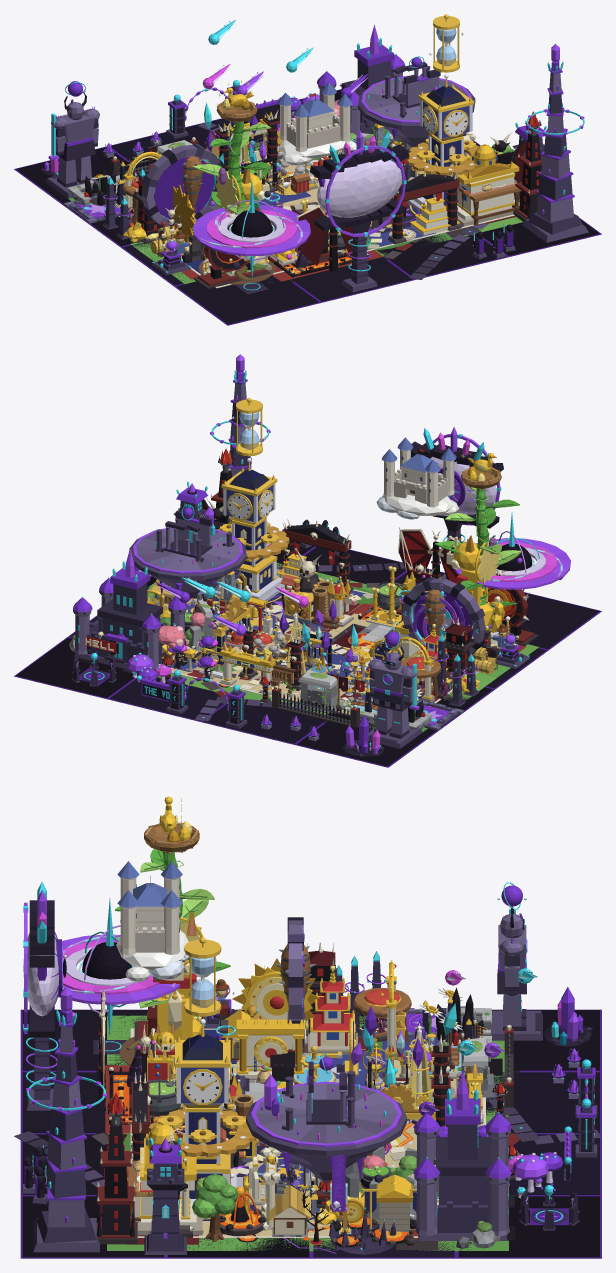
The model's file is Decor_26_30.fbx.
The picture shows the model from 3 angles, top to bottom: view 1: azimuth 30°, elevation 25°; view 2: azimuth 150°, elevation 25°; view 3: azimuth 270°, elevation 25°; orthographic projection. The views are drawn at different scales.
Parts seen in each view (by area): view 1: Ground_Body.Decor_VoidPortal_Ground, VoidEye_Body.Decor_VoidPortal_VoidEye, BlackHole_Body.Decor_VoidPortal_BlackHole, Spire_Body.Decor_VoidPortal_Spire, Island_Body.Decor_VoidPortal_Island, CloudCastle_Body.Decor_Beanstalk_CloudCastle, Sentinel_Body.Decor_VoidPortal_Sentinel, Hall_Body.Decor_DogeAltar_Hall, Citadel_Body.Decor_VoidPortal_Citadel, ClockFace_Body.Decor_ClockTower_ClockFace, GateArch_Body.Decor_HellGate_GateArch, PortalFrame_Body.Decor_VoidPortal_PortalFrame (+34 smaller); view 2: Ground_Body.Decor_VoidPortal_Ground, Citadel_Body.Decor_VoidPortal_Citadel, Island_Body.Decor_VoidPortal_Island, CloudCastle_Body.Decor_Beanstalk_CloudCastle, Sentinel_Body.Decor_VoidPortal_Sentinel, BlackHole_Body.Decor_VoidPortal_BlackHole, VoidEye_Body.Decor_VoidPortal_VoidEye, Ground_Body.Decor_DogeAltar_Ground, ClockFace_Body.Decor_ClockTower_ClockFace, Colossus_Body.Decor_DogeAltar_Colossus, Ground_Body.Decor_Beanstalk_Ground, PortalFrame_Body.Decor_VoidPortal_PortalFrame (+43 smaller); view 3: Ground_Body.Decor_VoidPortal_Ground, Island_Body.Decor_VoidPortal_Island, Citadel_Body.Decor_VoidPortal_Citadel, Spire_Body.Decor_VoidPortal_Spire, CloudCastle_Body.Decor_Beanstalk_CloudCastle, VoidEye_Body.Decor_VoidPortal_VoidEye, BlackHole_Body.Decor_VoidPortal_BlackHole, Sentinel_Body.Decor_VoidPortal_Sentinel, Ground_Body.Decor_Beanstalk_Ground, HellfireSpire_Body.Decor_HellGate_HellfireSpire, ClockFace_Body.Decor_ClockTower_ClockFace, Watchtower_Body.Decor_VoidPortal_Watchtower (+52 smaller).
Part boxes in pixels (x1,y1,x2,y2): Ground_Body.Decor_VoidPortal_Ground: [14, 89, 601, 325]; VoidEye_Body.Decor_VoidPortal_VoidEye: [310, 129, 409, 292]; BlackHole_Body.Decor_VoidPortal_BlackHole: [193, 178, 310, 294]; Spire_Body.Decor_VoidPortal_Spire: [522, 44, 588, 242]; Island_Body.Decor_VoidPortal_Island: [358, 56, 475, 147]; CloudCastle_Body.Decor_Beanstalk_CloudCastle: [277, 82, 356, 165]; Sentinel_Body.Decor_VoidPortal_Sentinel: [45, 81, 100, 198]; Hall_Body.Decor_DogeAltar_Hall: [450, 144, 519, 226]; Citadel_Body.Decor_VoidPortal_Citadel: [317, 24, 422, 141]; ClockFace_Body.Decor_ClockTower_ClockFace: [418, 74, 474, 141]; GateArch_Body.Decor_HellGate_GateArch: [388, 169, 461, 244]; PortalFrame_Body.Decor_VoidPortal_PortalFrame: [141, 143, 224, 226]; Ground_Body.Decor_VoidPortal_Ground: [14, 541, 601, 767]; Citadel_Body.Decor_VoidPortal_Citadel: [73, 548, 187, 669]; Island_Body.Decor_VoidPortal_Island: [129, 504, 246, 601]; CloudCastle_Body.Decor_Beanstalk_CloudCastle: [376, 437, 459, 519]; Sentinel_Body.Decor_VoidPortal_Sentinel: [368, 628, 422, 748]; BlackHole_Body.Decor_VoidPortal_BlackHole: [454, 512, 570, 623]; VoidEye_Body.Decor_VoidPortal_VoidEye: [411, 427, 503, 578]; Ground_Body.Decor_DogeAltar_Ground: [171, 582, 516, 714]; ClockFace_Body.Decor_ClockTower_ClockFace: [221, 458, 277, 524]; Colossus_Body.Decor_DogeAltar_Colossus: [445, 535, 503, 631]; Ground_Body.Decor_Beanstalk_Ground: [148, 563, 538, 731]; PortalFrame_Body.Decor_VoidPortal_PortalFrame: [402, 577, 485, 660]; Ground_Body.Decor_VoidPortal_Ground: [14, 1009, 601, 1258]; Island_Body.Decor_VoidPortal_Island: [246, 1053, 406, 1211]; Citadel_Body.Decor_VoidPortal_Citadel: [413, 1070, 511, 1240]; Spire_Body.Decor_VoidPortal_Spire: [26, 986, 106, 1252]; CloudCastle_Body.Decor_Beanstalk_CloudCastle: [116, 861, 189, 982]; VoidEye_Body.Decor_VoidPortal_VoidEye: [23, 881, 67, 1110]; BlackHole_Body.Decor_VoidPortal_BlackHole: [60, 898, 180, 1054]; Sentinel_Body.Decor_VoidPortal_Sentinel: [481, 882, 542, 1040]; Ground_Body.Decor_Beanstalk_Ground: [107, 1015, 508, 1251]; HellfireSpire_Body.Decor_HellGate_HellfireSpire: [96, 1093, 137, 1244]; ClockFace_Body.Decor_ClockTower_ClockFace: [175, 1019, 230, 1107]; Watchtower_Body.Decor_VoidPortal_Watchtower: [144, 1137, 186, 1255].
Bounding box in the file's own units: 190 × 94 × 190.
